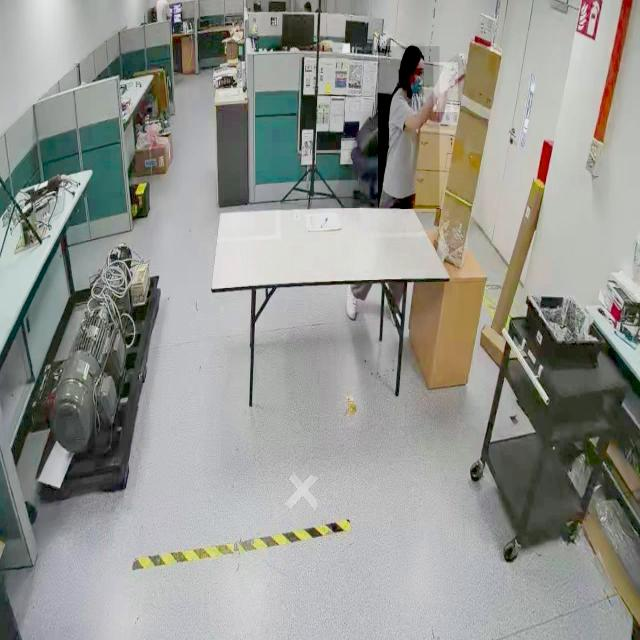face_mask: (406, 68, 424, 98)
hand_glove: (433, 62, 458, 113)
head_nohelmet: (401, 44, 425, 60)
person: (378, 46, 440, 210)
